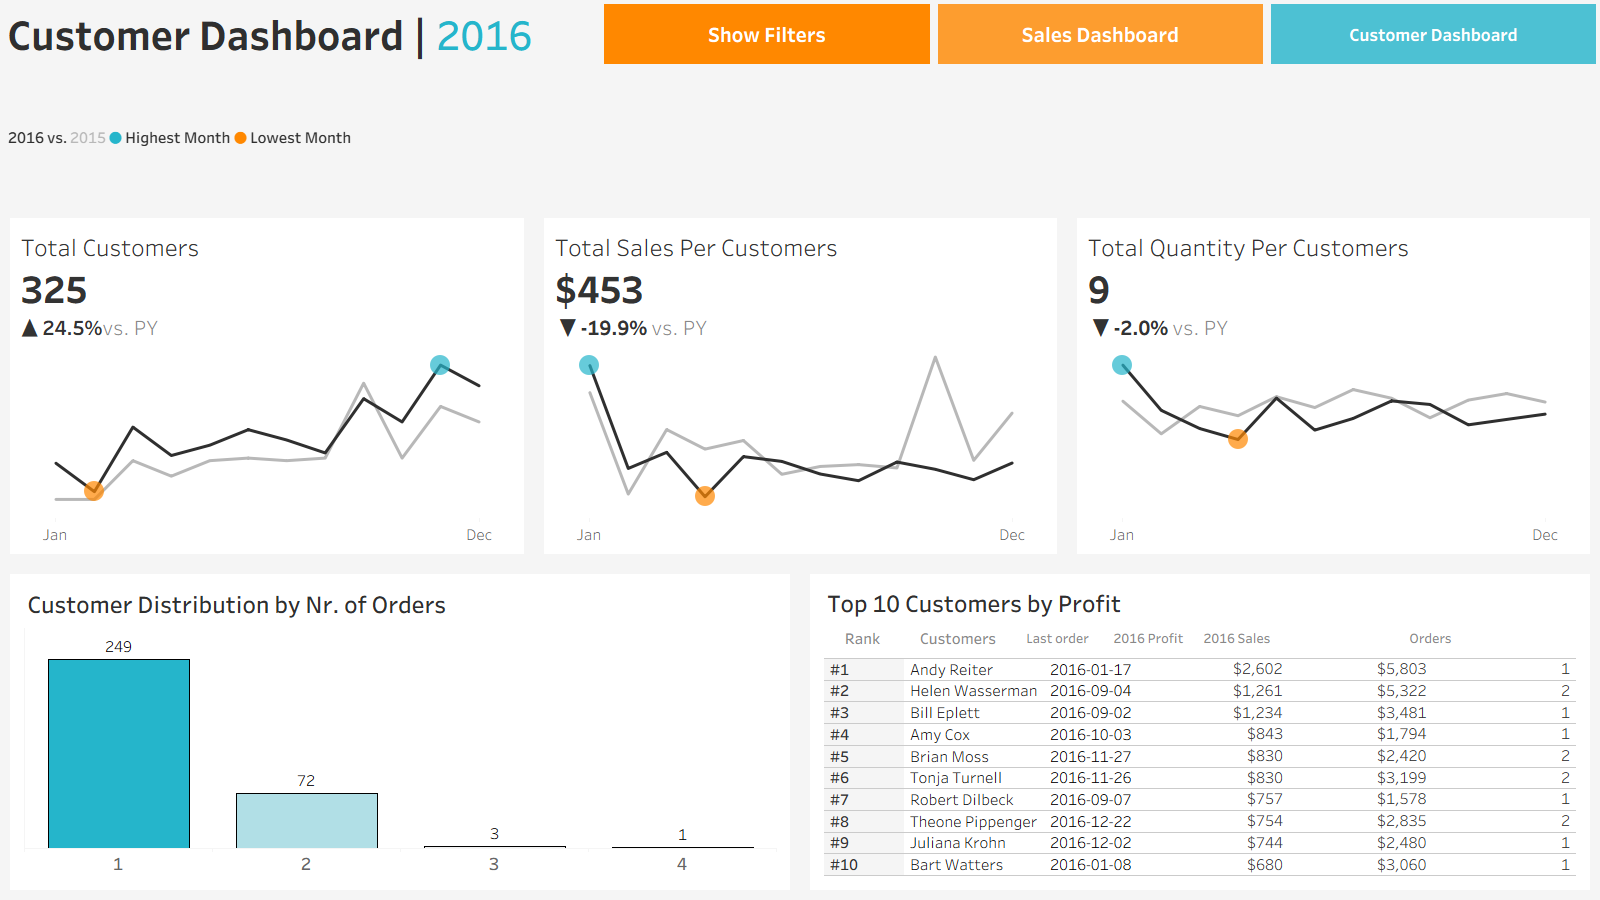

The dashboard page shown, as its layout file describes it:
{"tool":"tableau","page":{"name":"Customer Dashboard","canvas":[1600,900],"ordinal":0},"visuals":[{"type":"text","box":[0,0,600,68]},{"type":"dashboard-object","box":[600,0,334,68]},{"type":"dashboard-object","box":[934,0,333,68]},{"type":"dashboard-object","box":[1267,0,333,68]},{"type":"worksheet","title":"Legend KPI","mark":"Automatic","box":[0,68,1600,140]},{"type":"text","box":[779,90.9,304.7,41]},{"type":"blank","box":[779,131.9,304.7,32]},{"type":"parameter","param":"[Parameters].[Parameter 1612212167118852]","box":[779,163.9,304.7,134]},{"type":"worksheet","title":"KPI customers title","mark":"Automatic","box":[0,208,534,132]},{"type":"worksheet","title":"KPI Sales per Customer title","mark":"Automatic","box":[534,208,533,131.9]},{"type":"worksheet","title":"KPI Quantity per Customer title","mark":"Automatic","box":[1067,208,533,131.9]},{"type":"filter","title":"KPI customers","param":"[federated.1ozp2b10p37ldz180lxp515xqye7].[none:Segment:nk]","box":[779,297.9,304.7,105]},{"type":"worksheet","title":"KPI Sales per Customer","mark":"Automatic","rows":["Min/Max Sales (copy)_2115239157780495"],"cols":["FullDate"],"box":[534,339.9,533,224.1]},{"type":"worksheet","title":"KPI Quantity per Customer","mark":"Automatic","rows":["Min/Max Sales per Customer (copy)_2115239170723872"],"cols":["FullDate"],"box":[1067,339.9,533,224.1]},{"type":"worksheet","title":"KPI customers","mark":"Automatic","rows":["Min/Max Sales (copy)_2115239154286599"],"cols":["FullDate"],"box":[0,340,534,224]},{"type":"filter","title":"KPI customers","param":"[federated.1ozp2b10p37ldz180lxp515xqye7].[none:Category:nk]","box":[779,402.9,304.7,105]},{"type":"filter","title":"KPI customers","param":"[federated.1ozp2b10p37ldz180lxp515xqye7].[none:Sub Category:nk]","box":[779,507.9,304.7,371]},{"type":"text","box":[20,584,760,40]},{"type":"text","box":[820,584,760,38]},{"type":"text","box":[820,622,85,32]},{"type":"text","box":[905,622,106,32]},{"type":"text","box":[1011,622,93,32]},{"type":"text","box":[1104,622,89,32]},{"type":"text","box":[1193,622,88,32]},{"type":"text","box":[1281,622,299,32]},{"type":"worksheet","title":"Customer Distribution","mark":"Bar","rows":["CY Sales (copy)_2115239149670400"],"cols":["Calculation_2115239175131172"],"box":[20,624,760,256]},{"type":"worksheet","title":"Top Customers","mark":"Automatic","rows":["Calculation_2115239180455976","Customer Name","FullDate"],"box":[820,654,760,226]}]}

Visuals, with their boxes in screenshot pixels (x1, y1, x2, y2), scaled from the page's 1600x900 canvas onto the 1600x900 screenshot:
text: bbox=[0, 0, 600, 68]
dashboard-object: bbox=[600, 0, 934, 68]
dashboard-object: bbox=[934, 0, 1267, 68]
dashboard-object: bbox=[1267, 0, 1599, 68]
"Legend KPI" worksheet: bbox=[0, 68, 1599, 208]
text: bbox=[779, 91, 1084, 132]
blank: bbox=[779, 132, 1084, 164]
parameter: bbox=[779, 164, 1084, 298]
"KPI customers title" worksheet: bbox=[0, 208, 534, 340]
"KPI Sales per Customer title" worksheet: bbox=[534, 208, 1067, 340]
"KPI Quantity per Customer title" worksheet: bbox=[1067, 208, 1599, 340]
"KPI customers" filter: bbox=[779, 298, 1084, 403]
"KPI Sales per Customer" worksheet: bbox=[534, 340, 1067, 564]
"KPI Quantity per Customer" worksheet: bbox=[1067, 340, 1599, 564]
"KPI customers" worksheet: bbox=[0, 340, 534, 564]
"KPI customers" filter: bbox=[779, 403, 1084, 508]
"KPI customers" filter: bbox=[779, 508, 1084, 879]
text: bbox=[20, 584, 780, 624]
text: bbox=[820, 584, 1580, 622]
text: bbox=[820, 622, 905, 654]
text: bbox=[905, 622, 1011, 654]
text: bbox=[1011, 622, 1104, 654]
text: bbox=[1104, 622, 1193, 654]
text: bbox=[1193, 622, 1281, 654]
text: bbox=[1281, 622, 1580, 654]
"Customer Distribution" worksheet (Bar marks): bbox=[20, 624, 780, 880]
"Top Customers" worksheet: bbox=[820, 654, 1580, 880]
